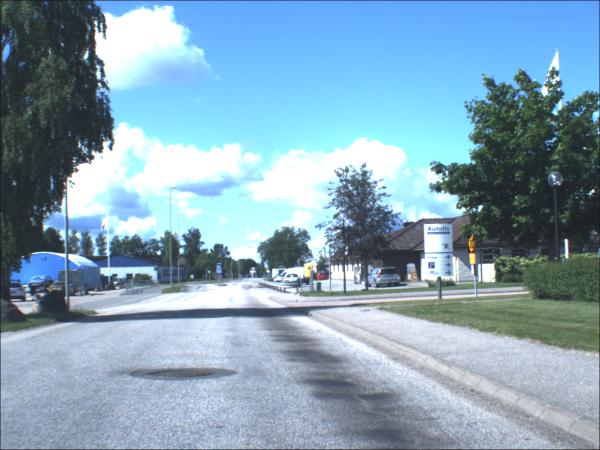30_SIGN: (469, 238, 476, 255)
PASS_RIGHT_SIDE: (217, 270, 224, 276)
PEDESTRIAN_CROSSING: (218, 265, 223, 269)
